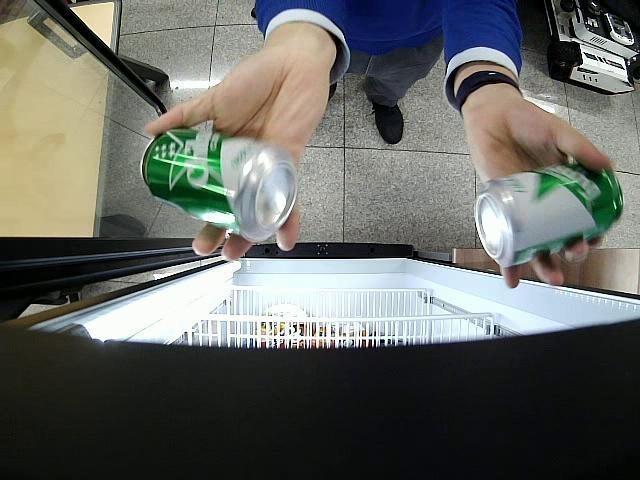12_chilsungCider: (140, 128, 297, 243), (474, 162, 622, 267)
